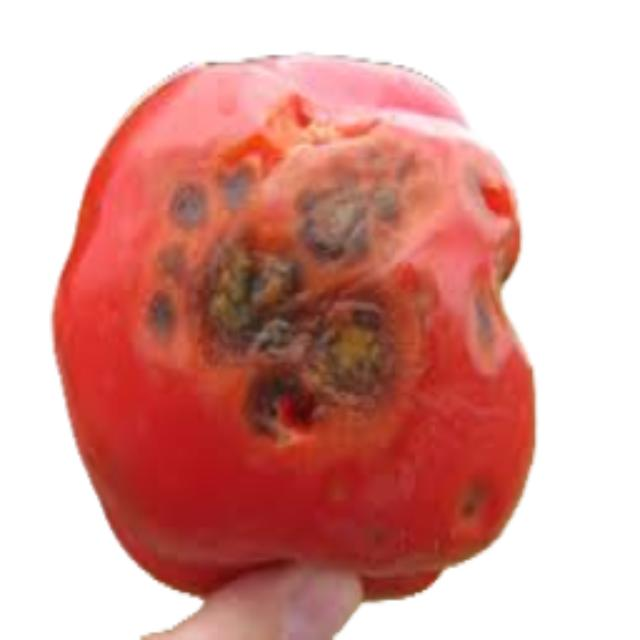defect: (46, 46, 550, 620)
